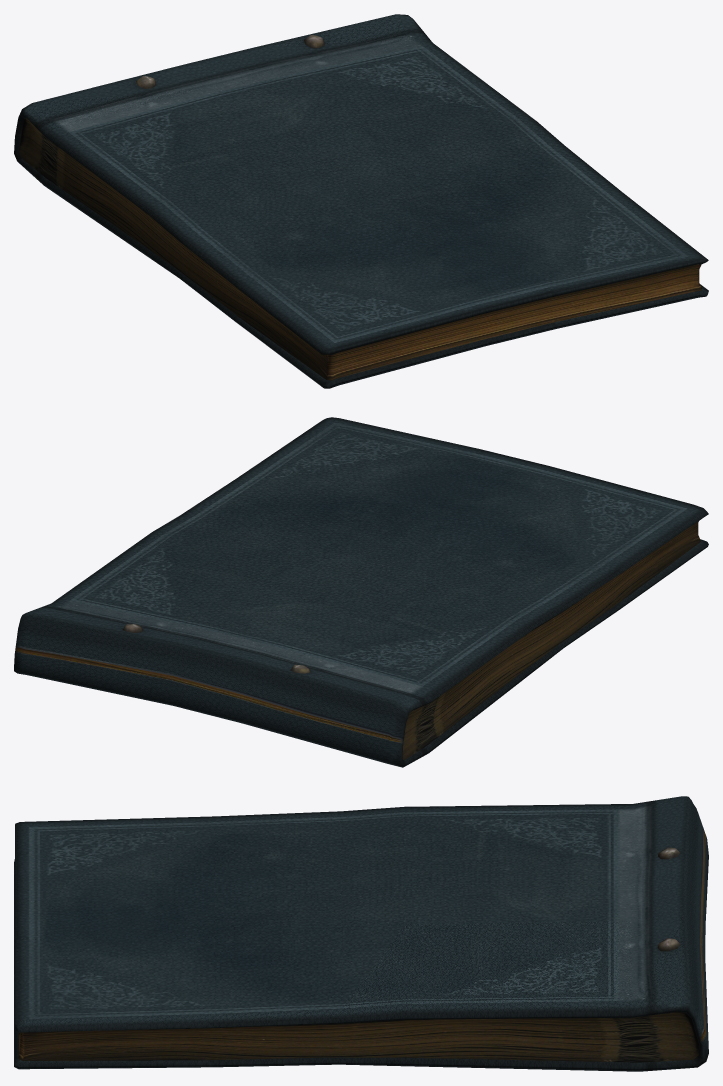
File: ClosedBook.fbx
3 renders of one model, top to bottom at view 1: azimuth 30°, elevation 25°; view 2: azimuth 150°, elevation 25°; view 3: azimuth 270°, elevation 25°, orthographic. The views are drawn at different scales.
Parts seen in each view (by area): view 1: pCube4; view 2: pCube4; view 3: pCube4.
Part boxes in pixels (box(x1,y1,x2,y2)): pCube4: box(14, 14, 708, 388); pCube4: box(14, 417, 708, 767); pCube4: box(14, 796, 708, 1071).
Size of the model in its own units: 3.41 by 0.5843 by 4.75.
